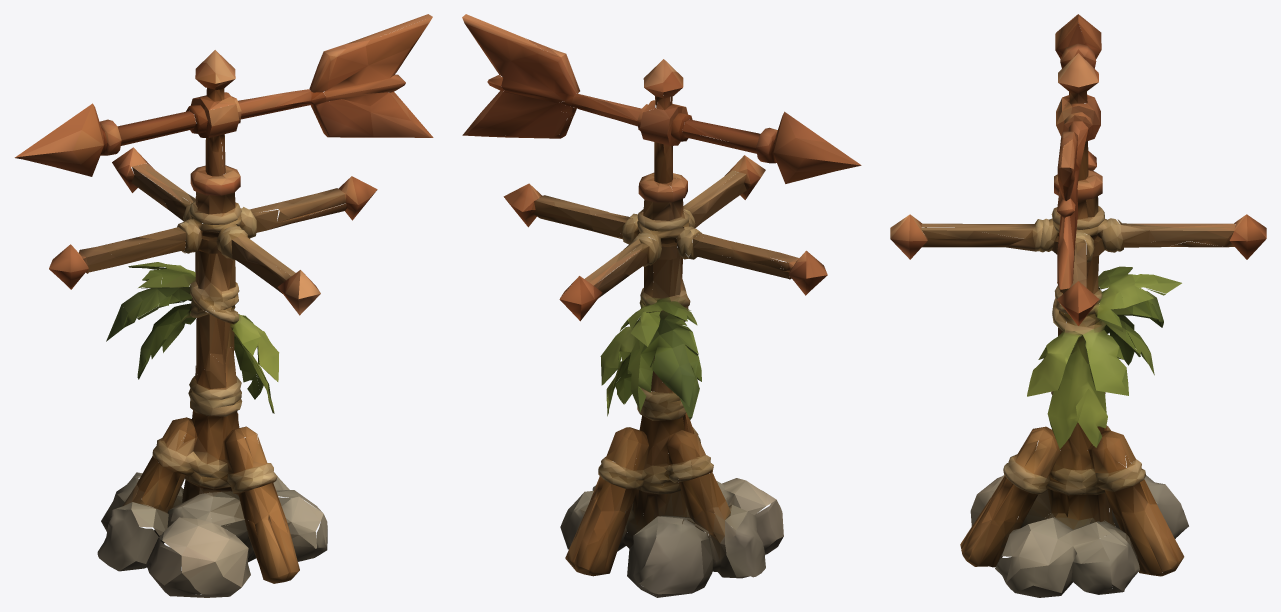
File: building-windVane.glb
3 views of the same model, side by side, from view 1: azimuth 30°, elevation 25°; view 2: azimuth 150°, elevation 25°; view 3: azimuth 270°, elevation 25° (orthographic). The views are drawn at different scales.
Visible parts, largest first — view 1: 0_windVane; view 2: 0_windVane; view 3: 0_windVane.
Boxes of the visible parts, x1=… form: 0_windVane: x1=14, y1=14, x2=433, y2=597; 0_windVane: x1=462, y1=14, x2=861, y2=597; 0_windVane: x1=890, y1=14, x2=1266, y2=597.
Bounding box in the file's own units: 1.92 × 2.28 × 1.51.
